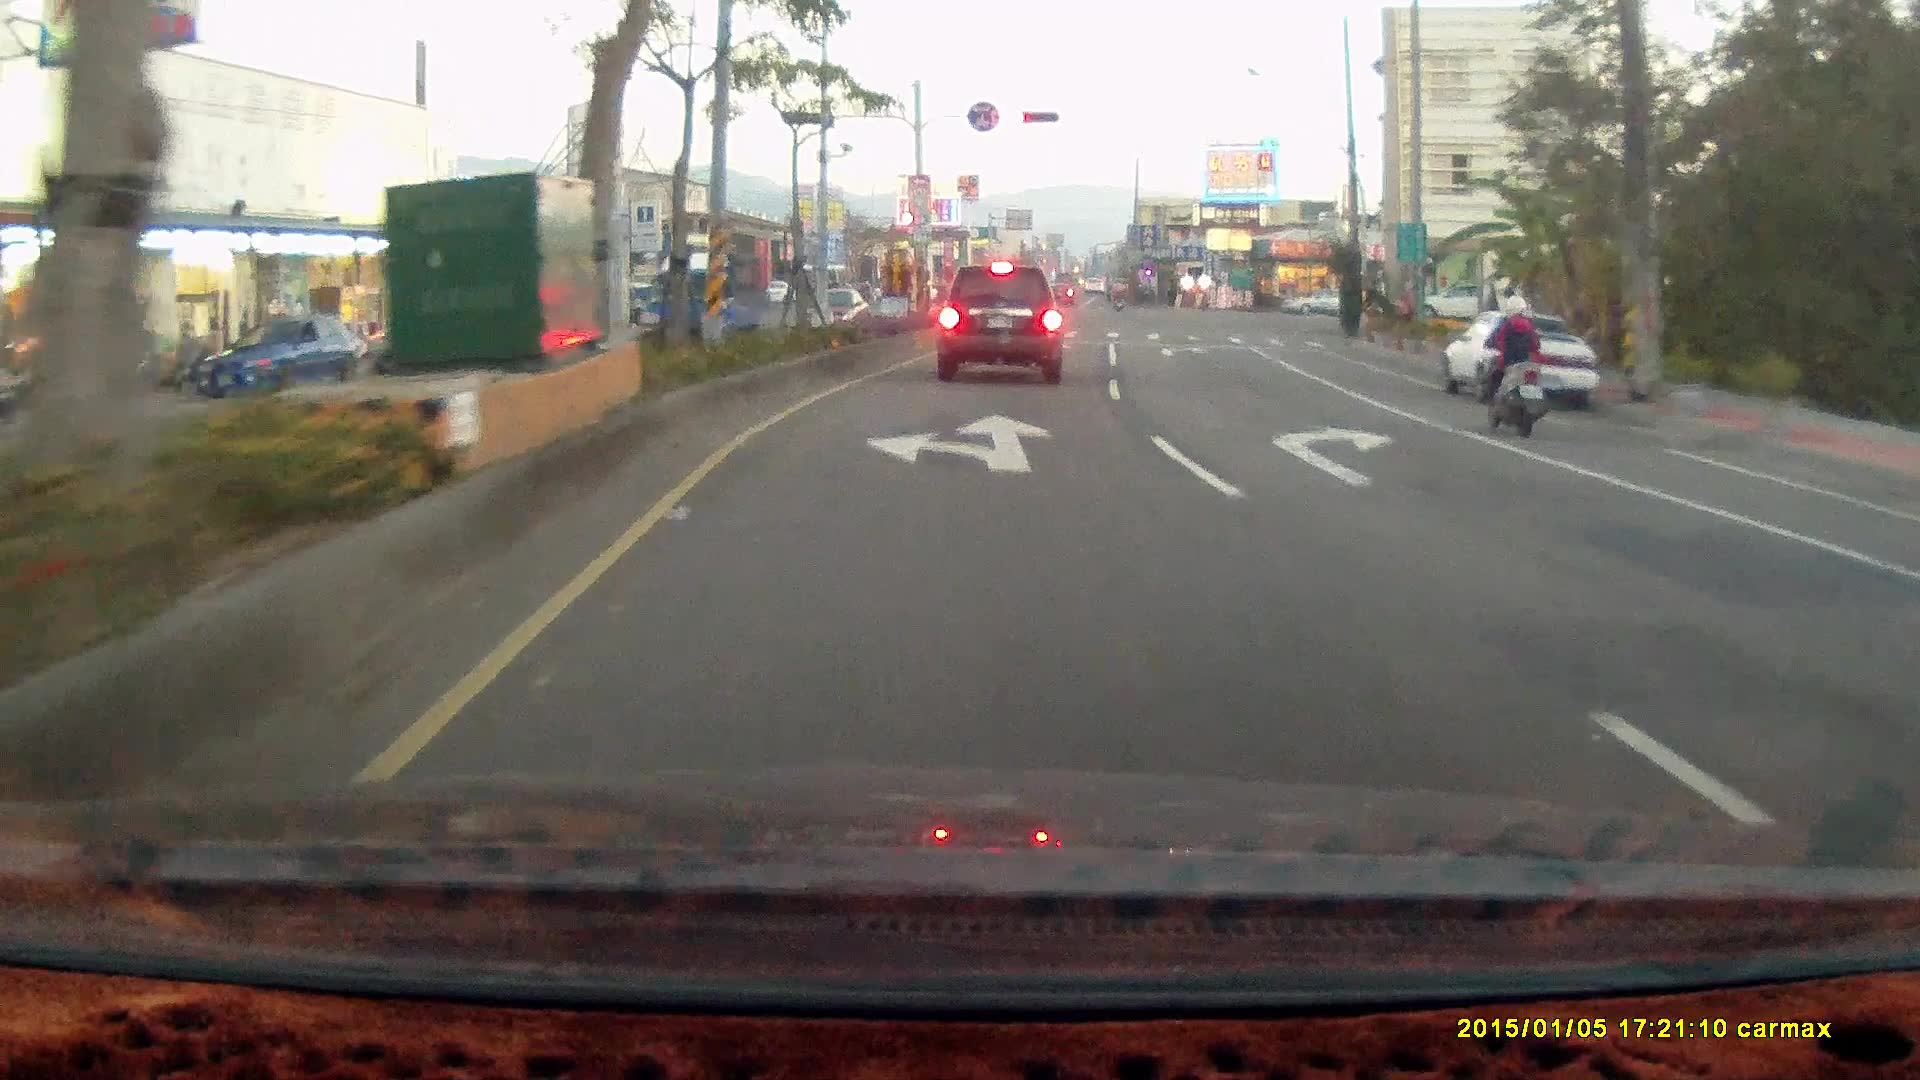rider: (1471, 296, 1549, 440)
vehicle: (1438, 312, 1600, 414), (936, 267, 1063, 386), (1448, 318, 1601, 411), (196, 314, 362, 398), (636, 251, 770, 344), (1896, 493, 1920, 836), (1883, 528, 1920, 690), (1413, 281, 1510, 326), (1282, 289, 1357, 316)
